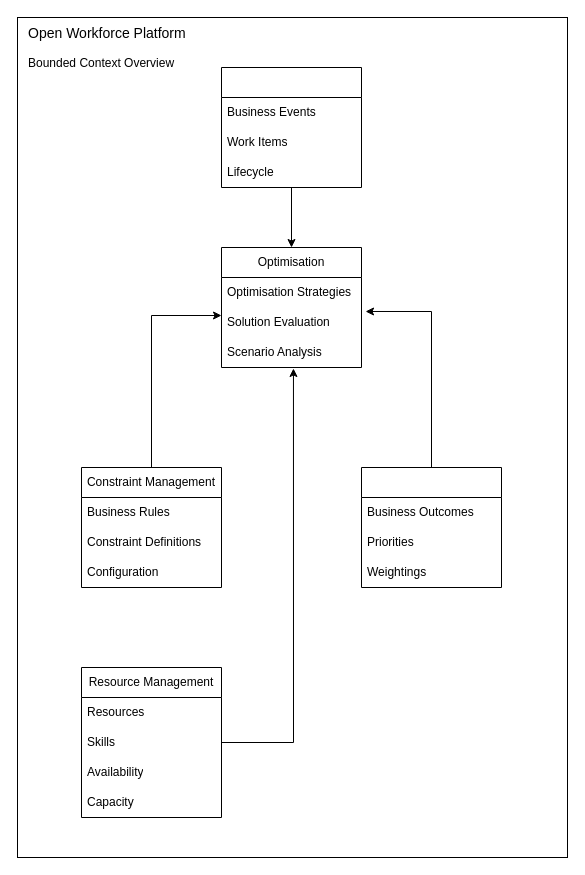
Image size: 585x875. Some labels were removed from this diagram. The box of each missing label's shape, as (x1, y1, x2, y2) in pixels:
Objective Management: (360, 466, 502, 588)
Work Management: (220, 66, 362, 188)
